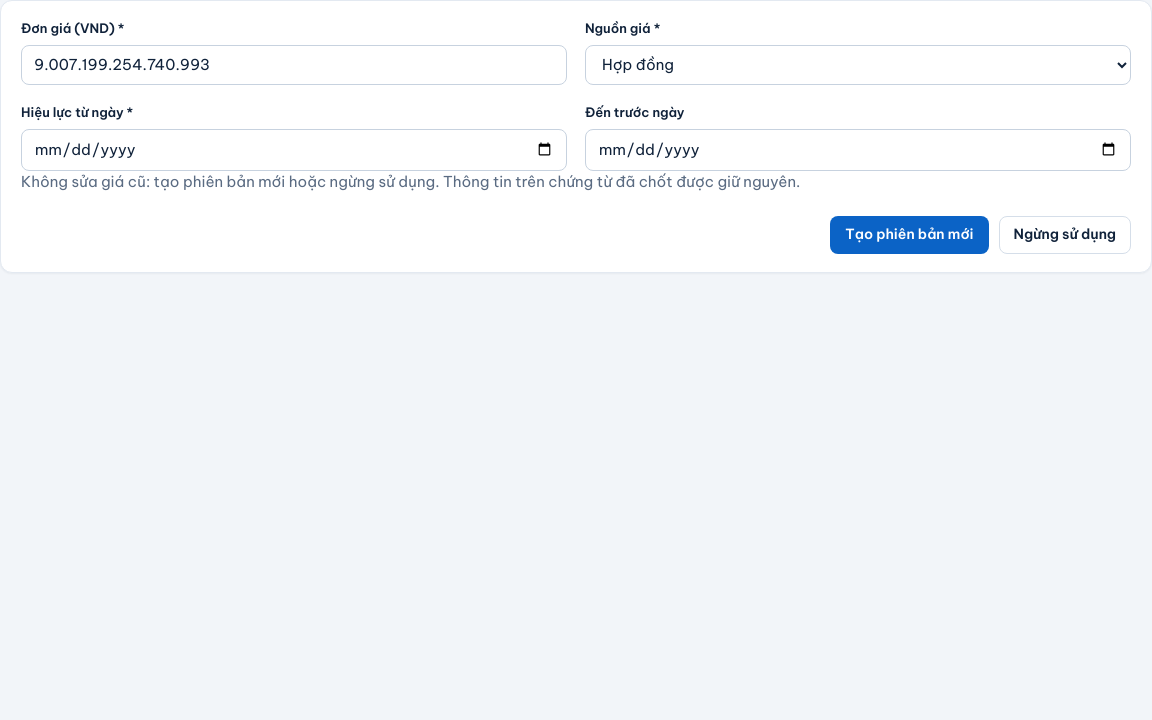
confirms exactly one deactivation without requiring creation fields
Click the button "Ngừng sử dụng" at (1065, 234), box [999,216,1131,254]
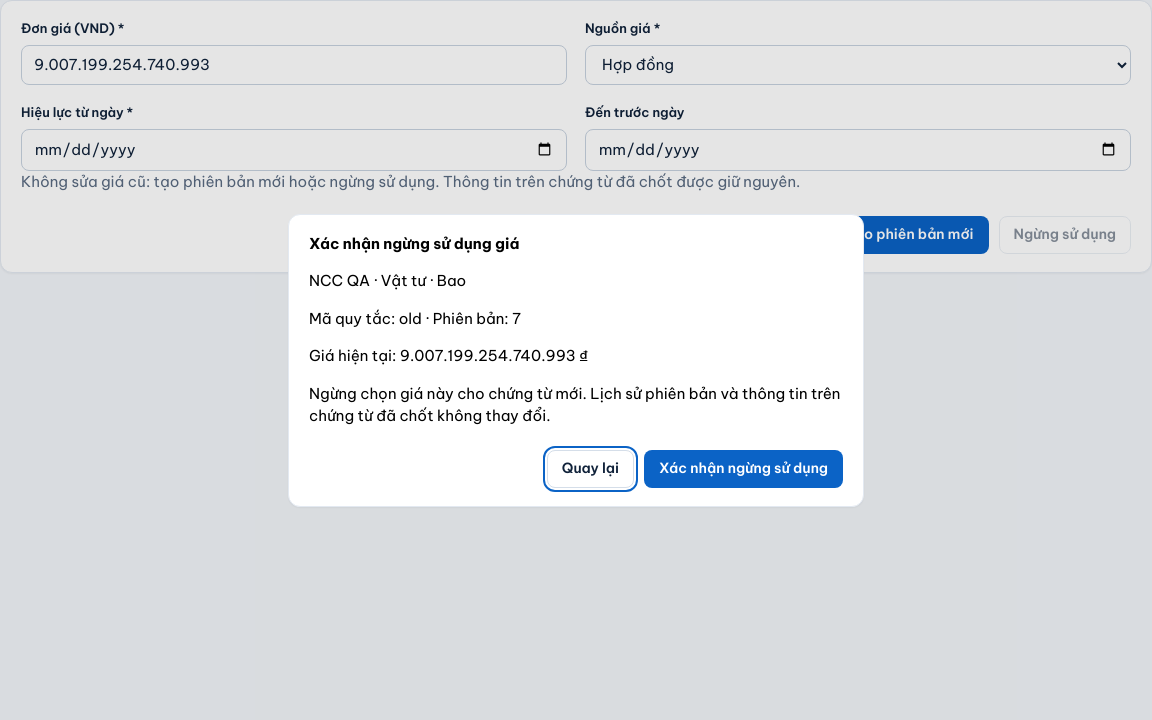
Click the button "Xác nhận ngừng sử dụng" at (744, 468), box [644,450,843,488]
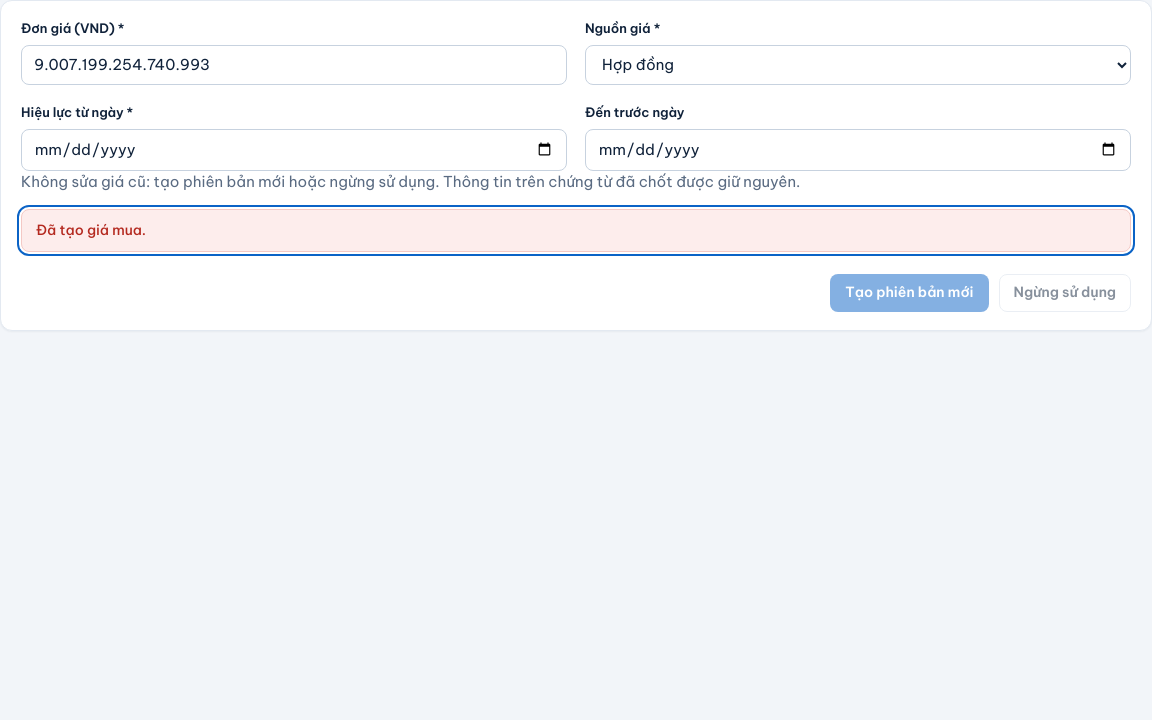
Expected: the button "Ngừng sử dụng" is disabled, [999,274,1131,312]
Expected: the message reads "Đã tạo giá mua.", [36,220,146,238]
Expected: the dialog is gone
